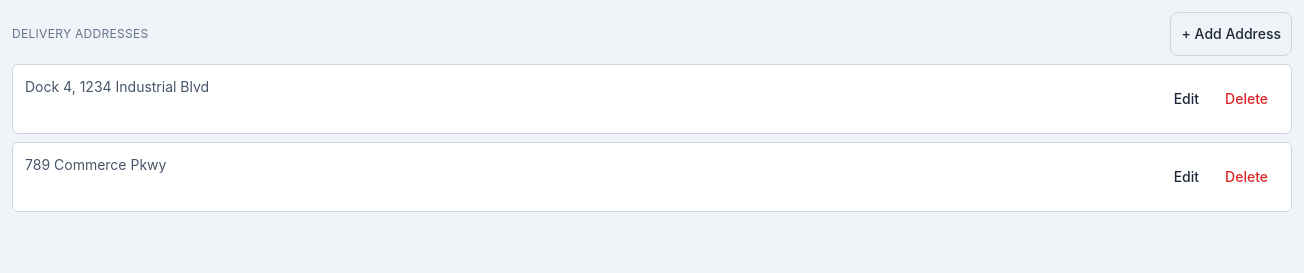
it: CustomerAddresses › surfaces the generic failure message when the action rejects (transport error)
Click the button with aria-label "delete address: 789 commerce".
click(1247, 177)  # box [1214,155,1279,199]
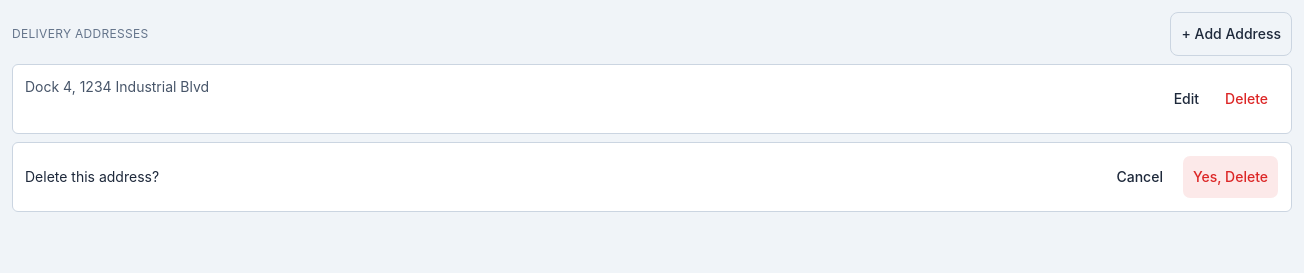
Click the button "Yes, Delete".
click(1230, 177)  # box [1182,155,1279,199]
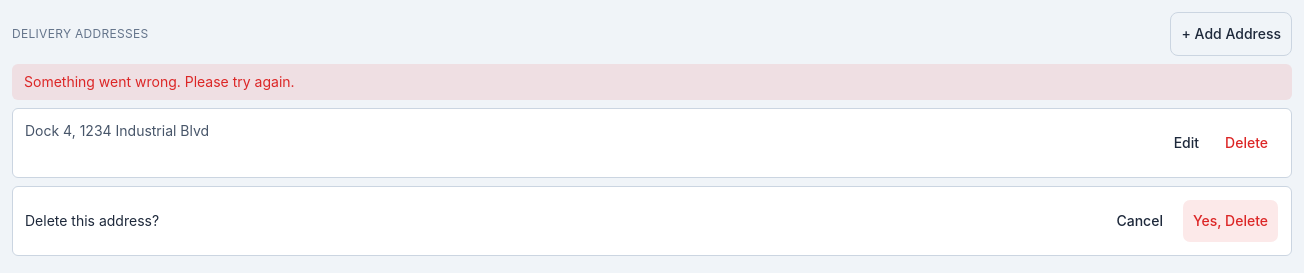
Now the message reads "Something went wrong. Please try again.", box [24,73,295,90]
